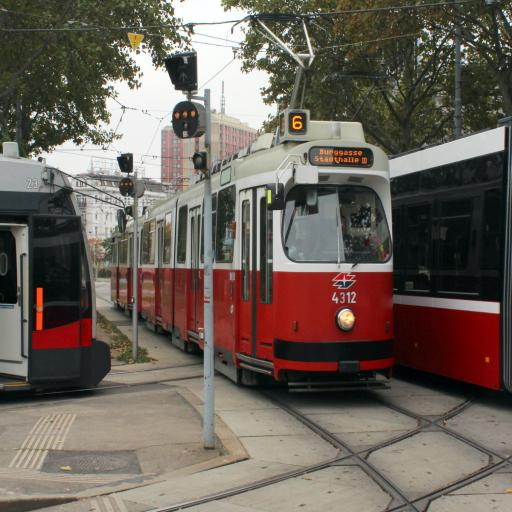E2-Tram: (112, 104, 395, 392)
